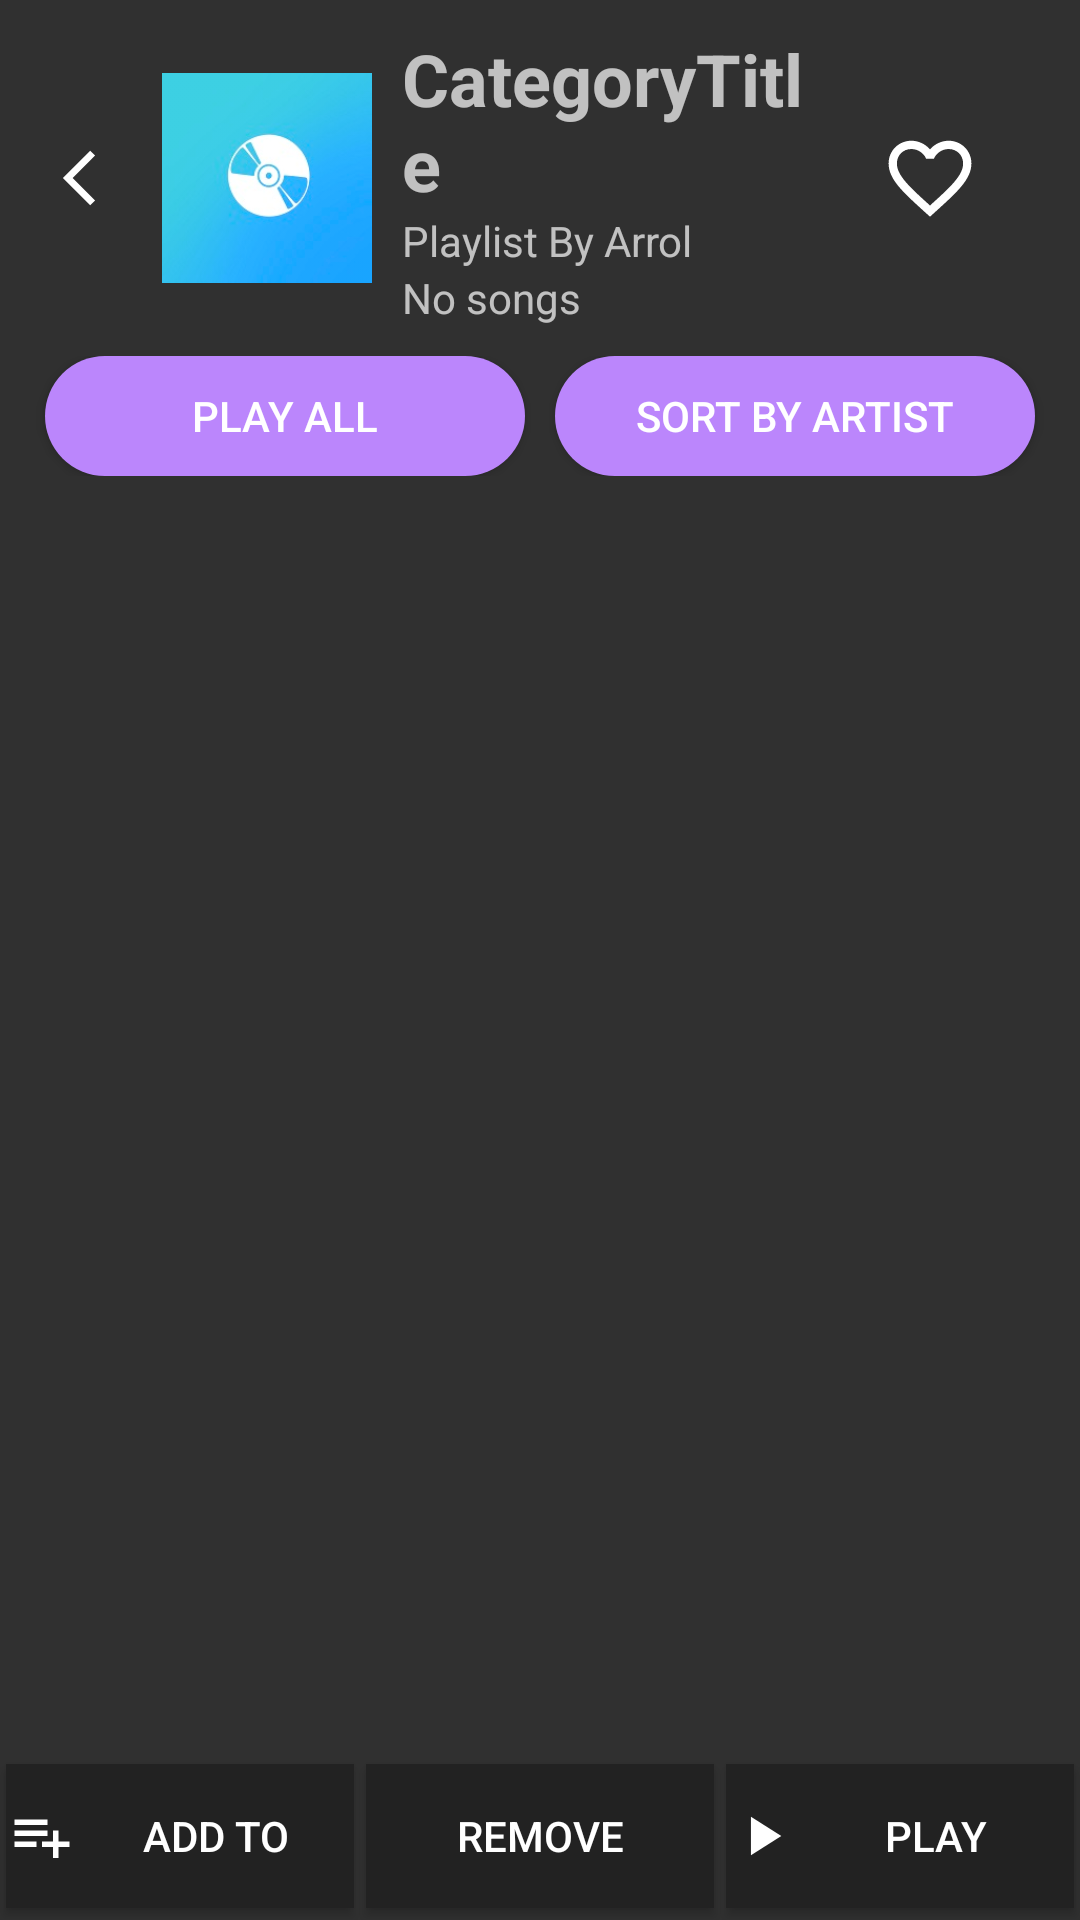

Point at icon controls on the screen. Image size 1080px×1920px, points as [x,y].
addfavourite: [930,178]
album: [267,178]
back: [79,178]
